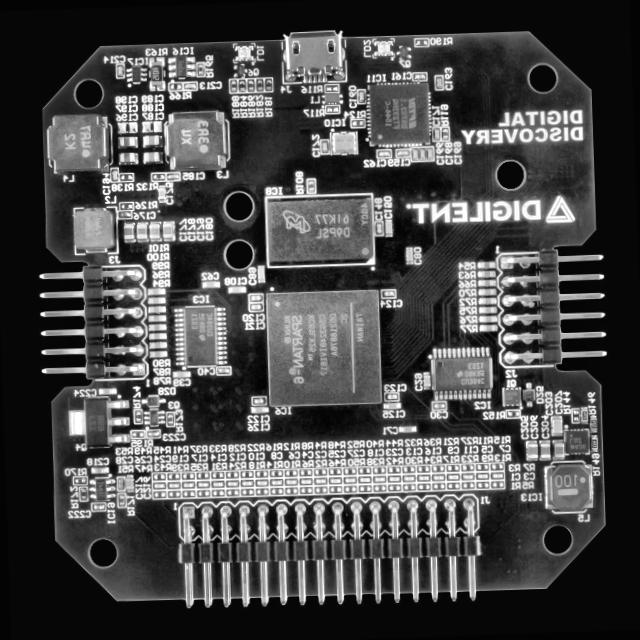PCB: (28, 28, 616, 614)
